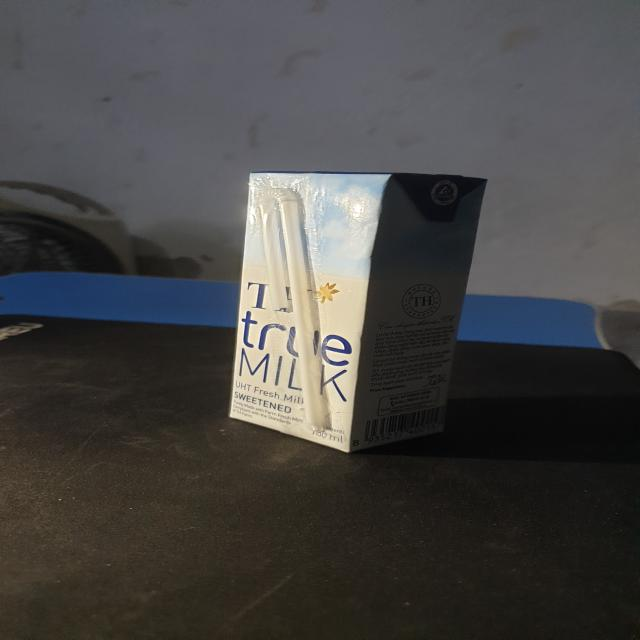TH: (227, 172, 489, 452)
